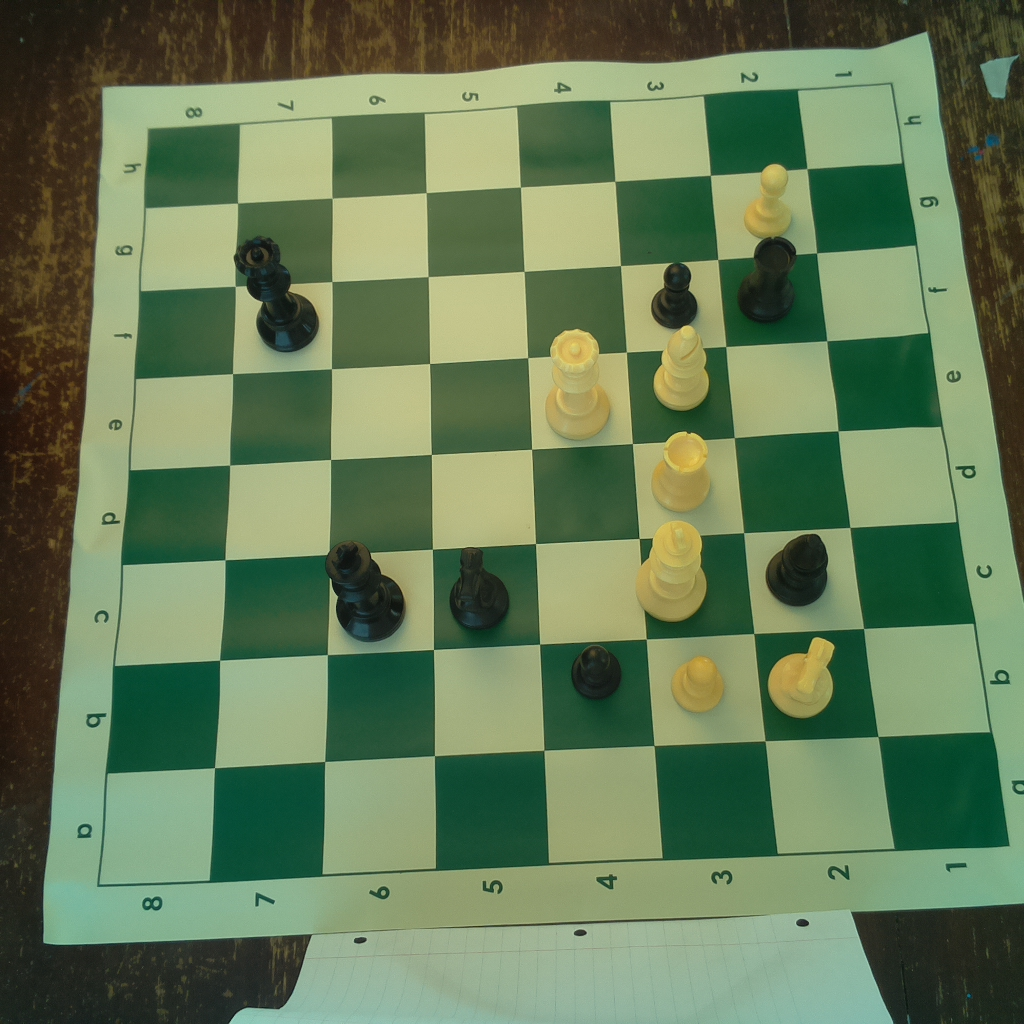black_bishop: (763, 525, 831, 610)
black_king: (324, 539, 411, 641)
black_knight: (438, 543, 516, 631)
black_pawn: (567, 632, 631, 702), (647, 257, 701, 328)
black_queen: (234, 232, 324, 353)
black_rook: (733, 231, 803, 326)
file_a: (98, 732, 1012, 892)
file_b: (105, 622, 996, 773)
file_c: (112, 523, 977, 666)
file_d: (123, 425, 958, 564)
file_e: (127, 334, 941, 469)
file_f: (137, 243, 928, 380)
file_g: (141, 164, 915, 293)
file_h: (142, 83, 907, 213)
outline: (98, 83, 1010, 890)
rank_1: (797, 83, 1008, 851)
rank_2: (705, 90, 894, 856)
rank_3: (610, 97, 780, 860)
rank_4: (518, 100, 664, 866)
rank_5: (421, 105, 550, 869)
rank_6: (321, 114, 440, 875)
rank_7: (208, 118, 333, 882)
rank_8: (98, 122, 242, 887)
white_bishop: (651, 326, 715, 410)
white_king: (636, 517, 708, 622)
white_knight: (768, 635, 840, 719)
white_pawn: (745, 158, 796, 240), (672, 651, 728, 714)
white_queen: (538, 325, 615, 443)
white_rook: (647, 427, 718, 515)
